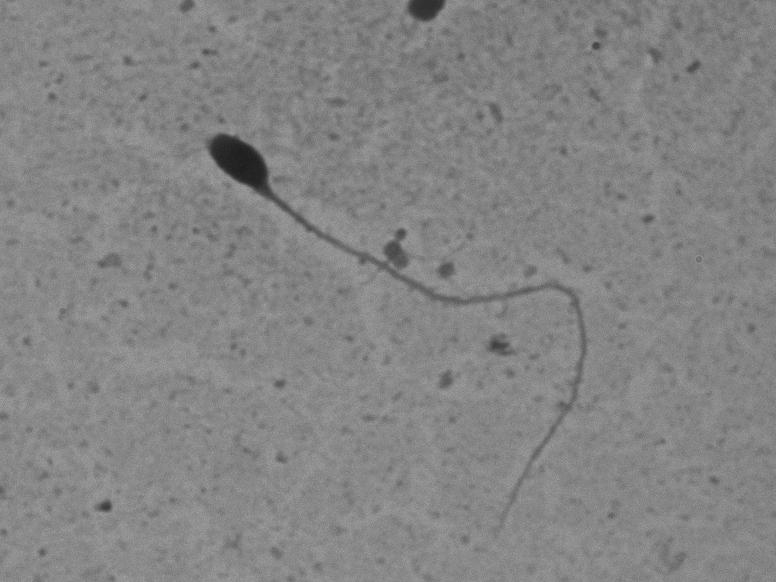Abnormal: (164, 95, 610, 541)
